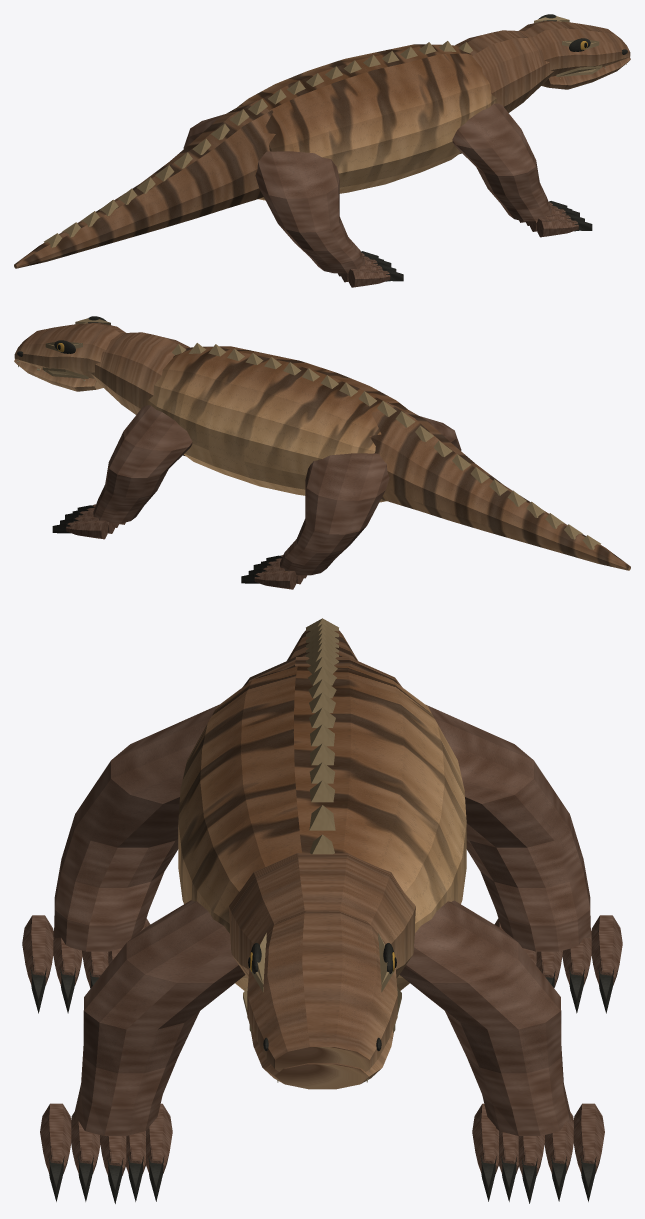
Rendered from gravarto-v01-anatomy-blockout.glb.
3 renders of one model, top to bottom at view 1: azimuth 30°, elevation 25°; view 2: azimuth 150°, elevation 25°; view 3: azimuth 270°, elevation 25°, orthographic. The views are drawn at different scales.
Parts seen in each view (by area): view 1: Gravarto_v01_static_anatomy; view 2: Gravarto_v01_static_anatomy; view 3: Gravarto_v01_static_anatomy.
Part boxes in pixels (x1,y1,x2,y2): Gravarto_v01_static_anatomy: (14, 14, 630, 287); Gravarto_v01_static_anatomy: (14, 316, 630, 589); Gravarto_v01_static_anatomy: (22, 618, 622, 1203).
Bounding box in the file's own units: 6.26 × 1.63 × 2.7.
1 material, 1 textured.
